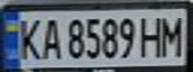5: (81, 15, 103, 60)
8: (100, 15, 121, 60), (63, 15, 84, 60)
9: (115, 13, 139, 60)
A: (36, 15, 63, 61)
H: (136, 14, 166, 58)
K: (12, 15, 45, 61)
M: (157, 12, 190, 57)
